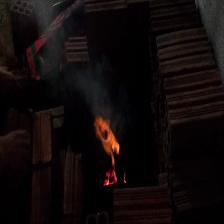fire: (94, 119, 125, 182)
smoke: (49, 31, 124, 117)
